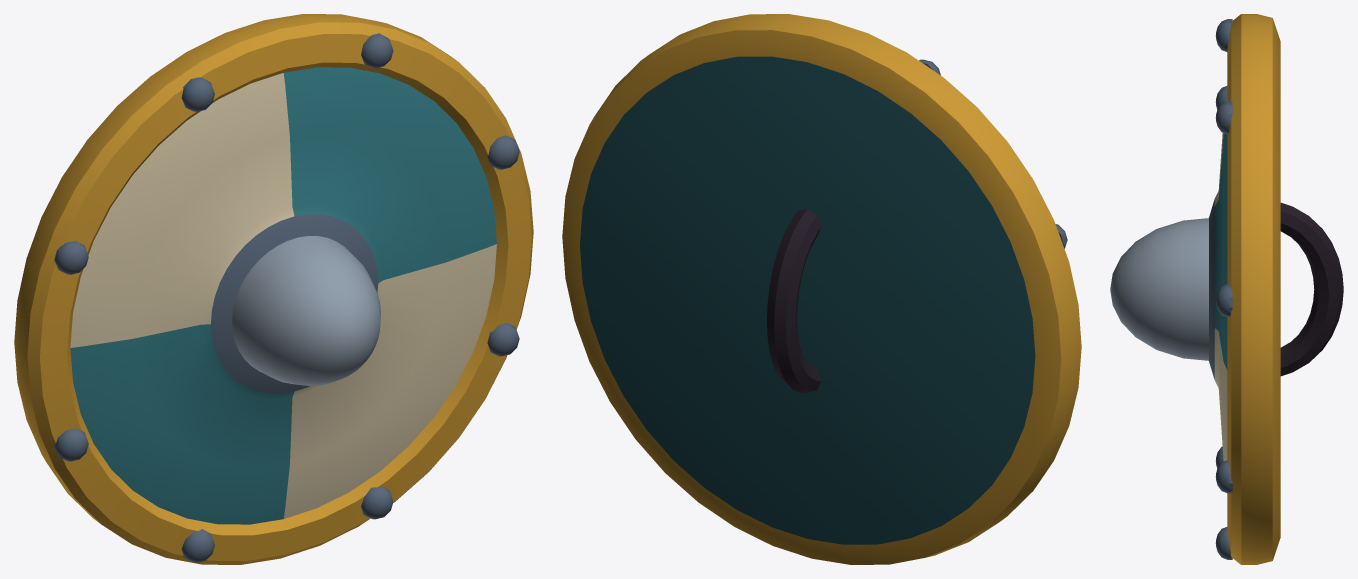
Rendered from RoundShield_14.glb.
3 renders of one model, left to right at view 1: azimuth 30°, elevation 25°; view 2: azimuth 150°, elevation 25°; view 3: azimuth 270°, elevation 25°, orthographic. The views are drawn at different scales.
Parts seen in each view (by area): view 1: RoundShield_14; view 2: RoundShield_14; view 3: RoundShield_14.
Boxes of the visible parts, bbox=[...] form: RoundShield_14: bbox=[14, 14, 533, 564]; RoundShield_14: bbox=[562, 14, 1081, 564]; RoundShield_14: bbox=[1110, 14, 1343, 564].
Bounding box in the file's own units: 2.79 × 2.79 × 1.18.
